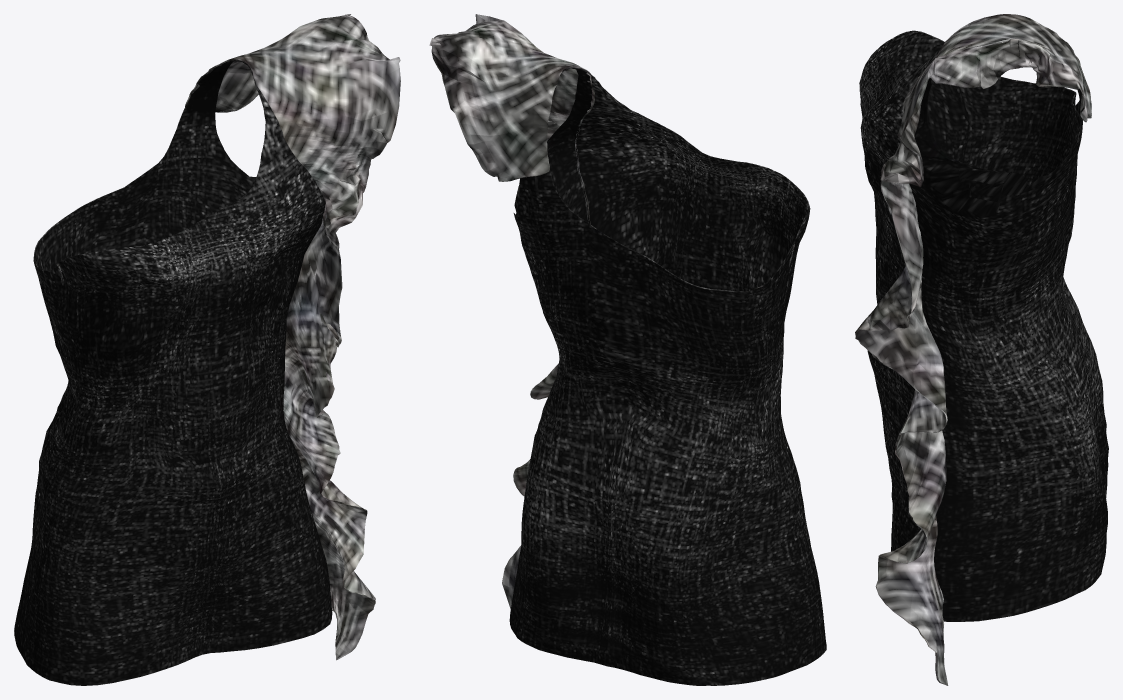
Rendered from mhw_elvs_frilled_party_dress.glb.
3 views of the same model, side by side, from view 1: azimuth 30°, elevation 25°; view 2: azimuth 150°, elevation 25°; view 3: azimuth 270°, elevation 25° (orthographic). The views are drawn at different scales.
Parts seen in each view (by area): view 1: mhw_elvs_frilled_party_dress; view 2: mhw_elvs_frilled_party_dress; view 3: mhw_elvs_frilled_party_dress.
Part boxes in pixels (x1,y1,x2,y2): mhw_elvs_frilled_party_dress: [14, 14, 400, 685]; mhw_elvs_frilled_party_dress: [429, 14, 826, 685]; mhw_elvs_frilled_party_dress: [855, 14, 1108, 685].
Size of the model in its own units: 0.5252 by 0.8703 by 0.3059.
1 material, 1 textured.
